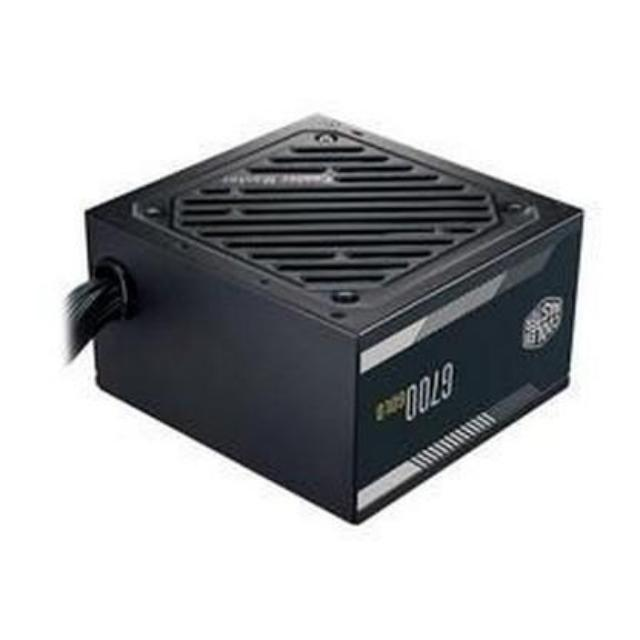PSU: (65, 101, 592, 528)
